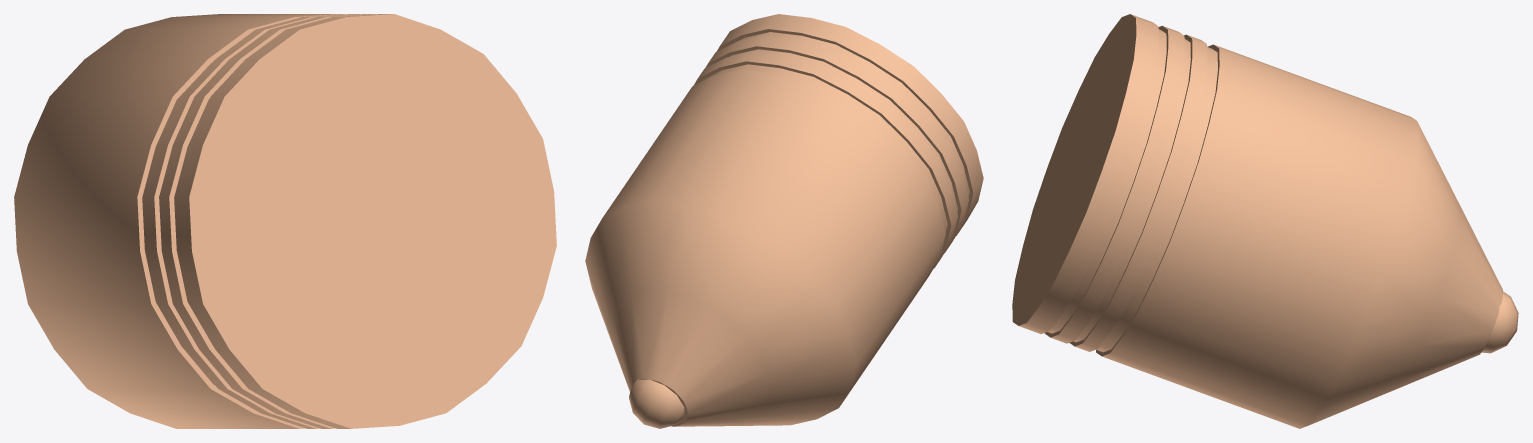
File: ref_spinningtop.fbx
3 renders of one model, left to right at view 1: azimuth 30°, elevation 25°; view 2: azimuth 150°, elevation 25°; view 3: azimuth 270°, elevation 25°, orthographic. The views are drawn at different scales.
Parts seen in each view (by area): view 1: ref_spinningtop; view 2: ref_spinningtop; view 3: ref_spinningtop.
Part boxes in pixels (box(x1,y1,x2,y2)): ref_spinningtop: box(14, 14, 556, 428); ref_spinningtop: box(585, 14, 983, 428); ref_spinningtop: box(1012, 14, 1518, 428).
Bounding box in the file's own units: 65.38 × 83.07 × 100.
